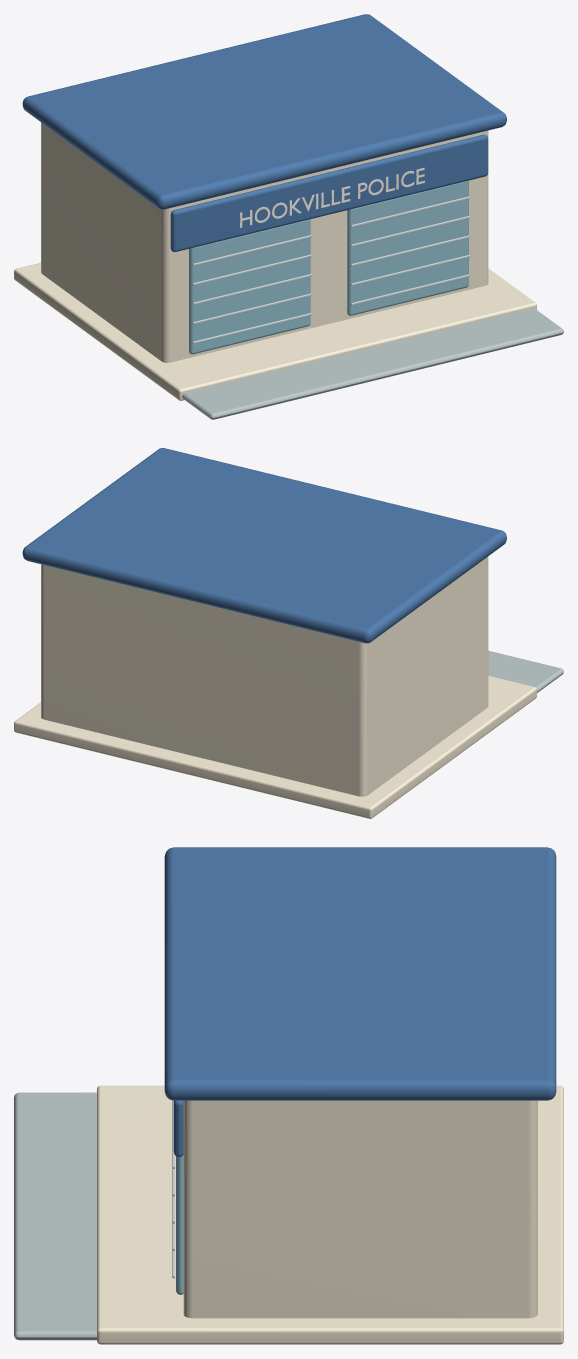
The model's file is police-station.glb.
3 views of the same model, one above another, from view 1: azimuth 30°, elevation 25°; view 2: azimuth 150°, elevation 25°; view 3: azimuth 270°, elevation 25° (orthographic). The views are drawn at different scales.
Visible parts, largest first — view 1: roof.001, foundation.001, window, front apron.001, door slat.001, Text.001; view 2: foundation.001, roof.001, front apron.001; view 3: foundation.001, roof.001, front apron.001, window.
Part boxes in pixels (x1=…): roof.001: x1=22, y1=14, x2=506, y2=251; foundation.001: x1=14, y1=122, x2=536, y2=400; window: x1=189, y1=180, x2=468, y2=354; front apron.001: x1=182, y1=308, x2=563, y2=419; door slat.001: x1=192, y1=196, x2=470, y2=344; Text.001: x1=240, y1=167, x2=424, y2=227; foundation.001: x1=14, y1=556, x2=536, y2=818; roof.001: x1=22, y1=448, x2=506, y2=643; front apron.001: x1=488, y1=650, x2=563, y2=692; foundation.001: x1=97, y1=1085, x2=563, y2=1344; roof.001: x1=164, y1=847, x2=556, y2=1157; front apron.001: x1=14, y1=1092, x2=96, y2=1340; window: x1=176, y1=1155, x2=183, y2=1294.
Bounding box in the file's own units: 7.7 × 3.8 × 7.3.
